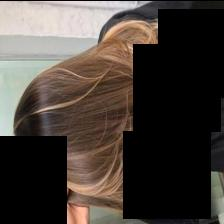brown: (19, 55, 210, 162)
